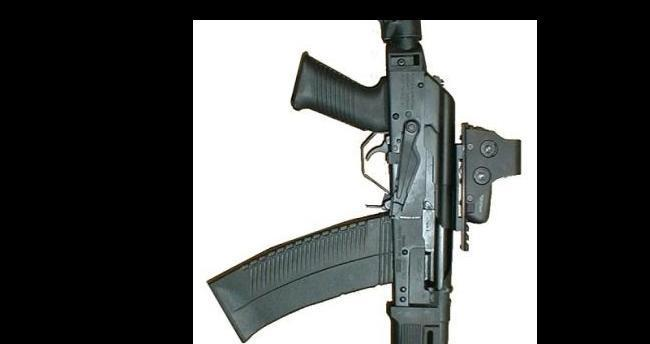gun: (297, 193, 470, 265), (161, 80, 344, 135)
